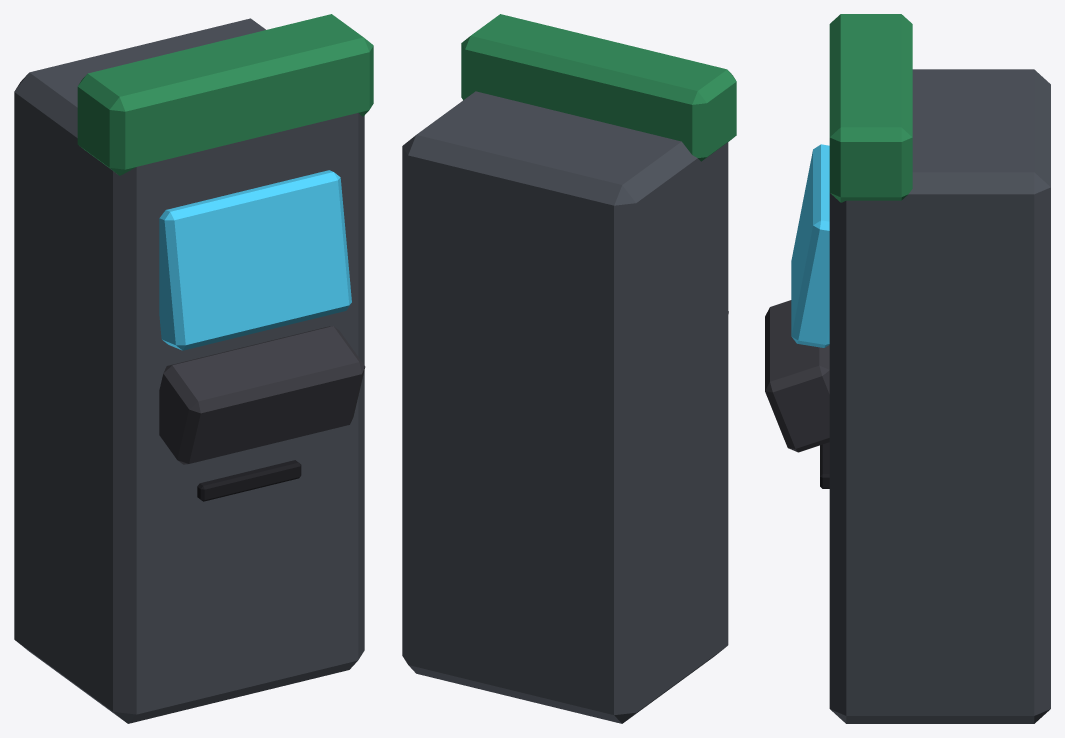
File: ATM.fbx
3 views of the same model, side by side, from view 1: azimuth 30°, elevation 25°; view 2: azimuth 150°, elevation 25°; view 3: azimuth 270°, elevation 25° (orthographic). The views are drawn at different scales.
Parts seen in each view (by area): view 1: ATM; view 2: ATM; view 3: ATM.
Part boxes in pixels (box(x1,y1,x2,y2)): ATM: box(14, 14, 373, 723); ATM: box(402, 14, 736, 723); ATM: box(765, 14, 1050, 723).
Size of the model in its own units: 2.1 by 4.8 by 2.07.
Materials: 1 (1 with a texture image).
